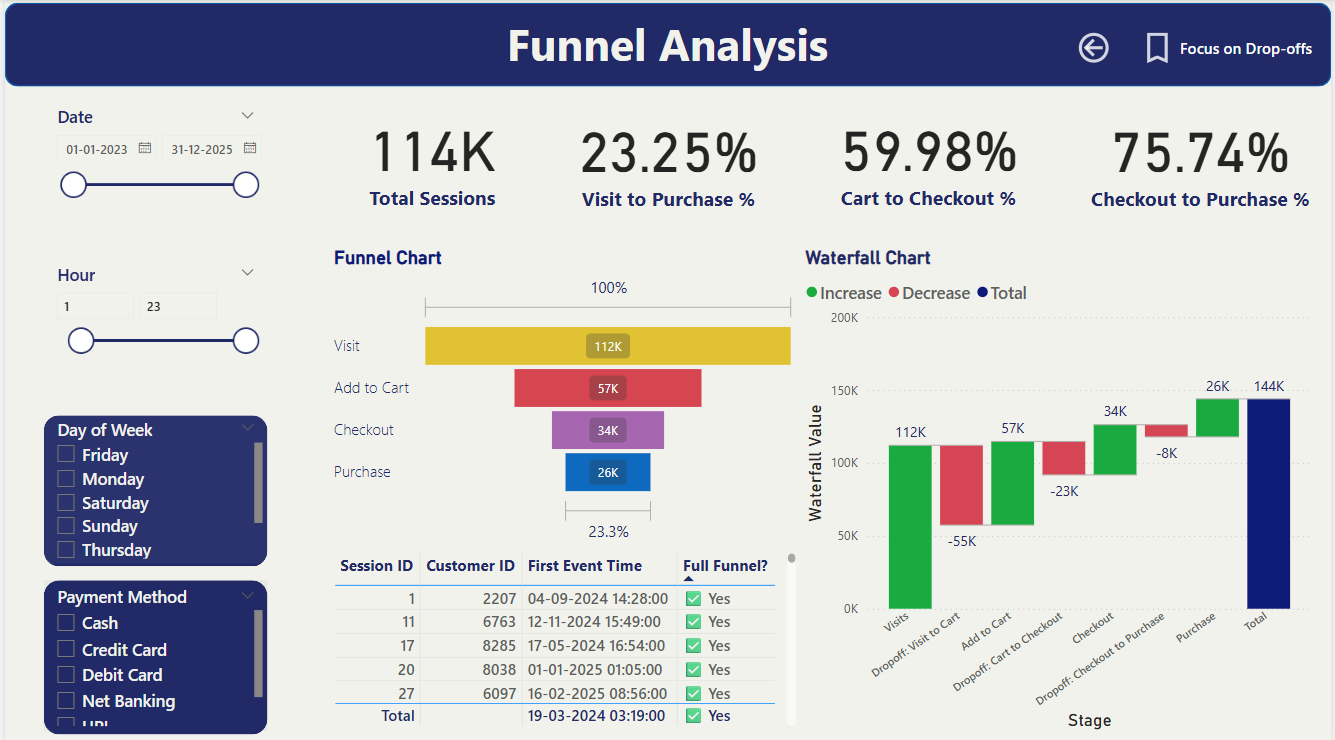

Layout of this report page (visuals, bound fields, positions):
{"tool":"powerbi","page":{"name":"Funnel Analysis","canvas":[1280,720],"ordinal":0},"visuals":[{"type":"shape","box":[38.6,308.8,216,165.3],"z":0},{"type":"shape","box":[37.4,483.8,216,83.2],"z":1000},{"type":"shape","box":[37.4,575.5,216,131.5],"z":2000},{"type":"card","title":"Total Sessions Card","fields":{"Values":["_Measures.Number of Sessions"]},"box":[312.5,97.7,200.3,109.8],"z":3000},{"type":"shape","box":[0,3.6,1280,80.8],"z":4000},{"type":"card","title":"Visit to Purchase Card","fields":{"Values":["_Measures.Cumulative Purchase Conversion"]},"box":[540.5,98.9,200.3,109.8],"z":5000},{"type":"textbox","box":[439.1,8.4,400.5,73.6],"z":6000},{"type":"card","title":"Cart to Checkout Card","fields":{"Values":["_Measures.Step_Cart_to_Checkout_Conversion_Rate"]},"box":[791.4,97.7,200.3,109.8],"z":7000},{"type":"card","title":"Checkout to Purchase Card","fields":{"Values":["_Measures.Step_Checkout_to_Purchase_Conversion_Rate"]},"box":[1042.4,98.9,223.2,109.8],"z":8000},{"type":"funnel","title":"Funnel Chart","fields":{"Y":["_Measures.Visits","_Measures.AddtoCart","_Measures.Checkout","_Measures.Purchase"]},"box":[312.5,238.9,456,290.8],"z":9000},{"type":"waterfallChart","title":"Waterfall Chart","fields":{"Y":["WaterfallStages.Waterfall Value"],"Category":["WaterfallStages.Stage"]},"box":[767.1,239,498.7,471],"z":10000},{"type":"slicer","title":"DOW Slicer","fields":{"Values":["DateTable.Weekday"]},"box":[37.4,308.8,216,174.9],"z":11000},{"type":"tableEx","fields":{"Values":["session_events.session_id","session_events.customer_id","_Measures.First Event Time","_Measures.Full Funnel?"]},"box":[311.3,529.6,456,177.3],"z":12000},{"type":"slicer","title":"Date Slicer","fields":{"Values":["DateTable.Date"]},"box":[38.6,98.9,216,109.8],"z":13000},{"type":"slicer","title":"Payment Method Slicer","fields":{"Values":["customers.gender"]},"box":[37.4,483.8,216,83.2],"z":14000},{"type":"slicer","title":"Hour Slicer","fields":{"Values":["session_events.hour_of_day"]},"box":[38.6,208.7,216,100.1],"z":15000},{"type":"actionButton","box":[1031.5,27.7,42.2,38.6],"z":16000},{"type":"actionButton","box":[1093,27.7,172.5,38.6],"z":17000},{"type":"slicer","fields":{"Values":["customers.Age Group"]},"box":[38.6,575.5,216,131.5],"z":18000}]}

Visuals, with their boxes in screenshot pixels (x1, y1, x2, y2), scaled from the page's 1280x720 canvas onto the 1335x740 screenshot:
shape: x1=40 y1=317 x2=266 y2=487
shape: x1=39 y1=497 x2=264 y2=583
shape: x1=39 y1=591 x2=264 y2=727
"Total Sessions Card" card: x1=326 y1=100 x2=535 y2=213
shape: x1=0 y1=4 x2=1334 y2=87
"Visit to Purchase Card" card: x1=564 y1=102 x2=773 y2=214
textbox: x1=458 y1=9 x2=876 y2=84
"Cart to Checkout Card" card: x1=825 y1=100 x2=1034 y2=213
"Checkout to Purchase Card" card: x1=1087 y1=102 x2=1320 y2=214
"Funnel Chart" funnel: x1=326 y1=246 x2=802 y2=544
"Waterfall Chart" waterfallChart: x1=800 y1=246 x2=1320 y2=730
"DOW Slicer" slicer: x1=39 y1=317 x2=264 y2=497
tableEx - session_events.session_id x session_events.customer_id: x1=325 y1=544 x2=800 y2=727
"Date Slicer" slicer: x1=40 y1=102 x2=266 y2=214
"Payment Method Slicer" slicer: x1=39 y1=497 x2=264 y2=583
"Hour Slicer" slicer: x1=40 y1=214 x2=266 y2=317
actionButton: x1=1076 y1=28 x2=1120 y2=68
actionButton: x1=1140 y1=28 x2=1320 y2=68
slicer - customers.Age Group: x1=40 y1=591 x2=266 y2=727
